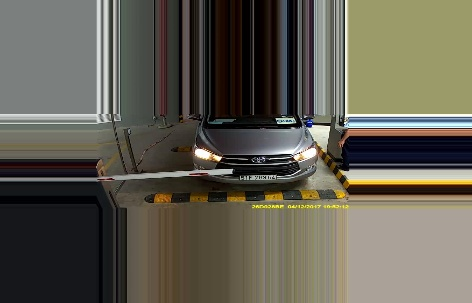plate: (239, 170, 278, 181)
